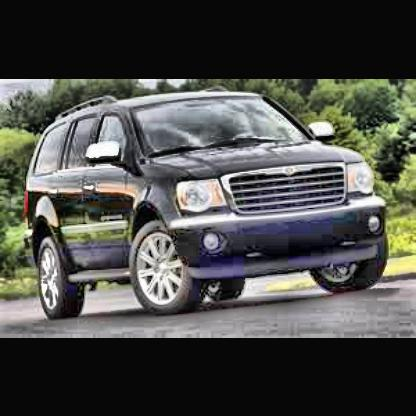Chrysler Aspen SUV 2009: (25, 86, 392, 318)
